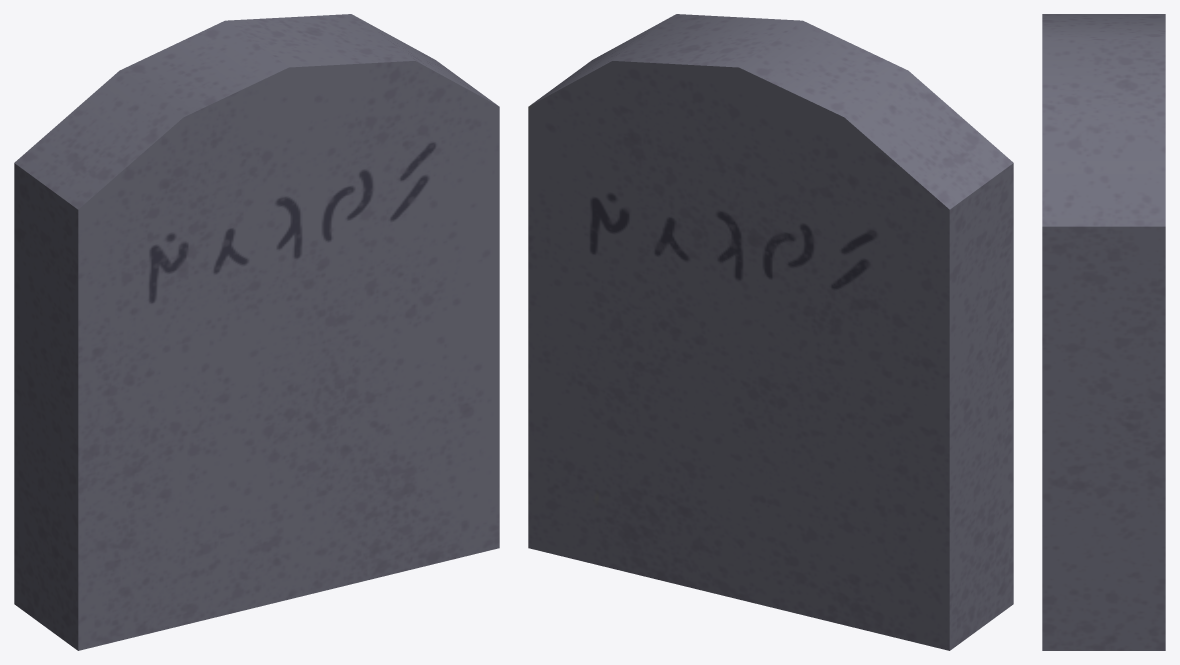
File: TombStoneV1.obj
3 views of the same model, side by side, from view 1: azimuth 30°, elevation 25°; view 2: azimuth 150°, elevation 25°; view 3: azimuth 270°, elevation 25° (orthographic). The views are drawn at different scales.
Parts seen in each view (by area): view 1: TombStoneV1_tombstone_TypeA; view 2: TombStoneV1_tombstone_TypeA; view 3: TombStoneV1_tombstone_TypeA.
Boxes of the visible parts, x1=… form: TombStoneV1_tombstone_TypeA: x1=14, y1=14, x2=499, y2=650; TombStoneV1_tombstone_TypeA: x1=528, y1=14, x2=1013, y2=650; TombStoneV1_tombstone_TypeA: x1=1042, y1=14, x2=1165, y2=650.
Bounding box in the file's own units: 2.82 × 3.39 × 0.7402.
